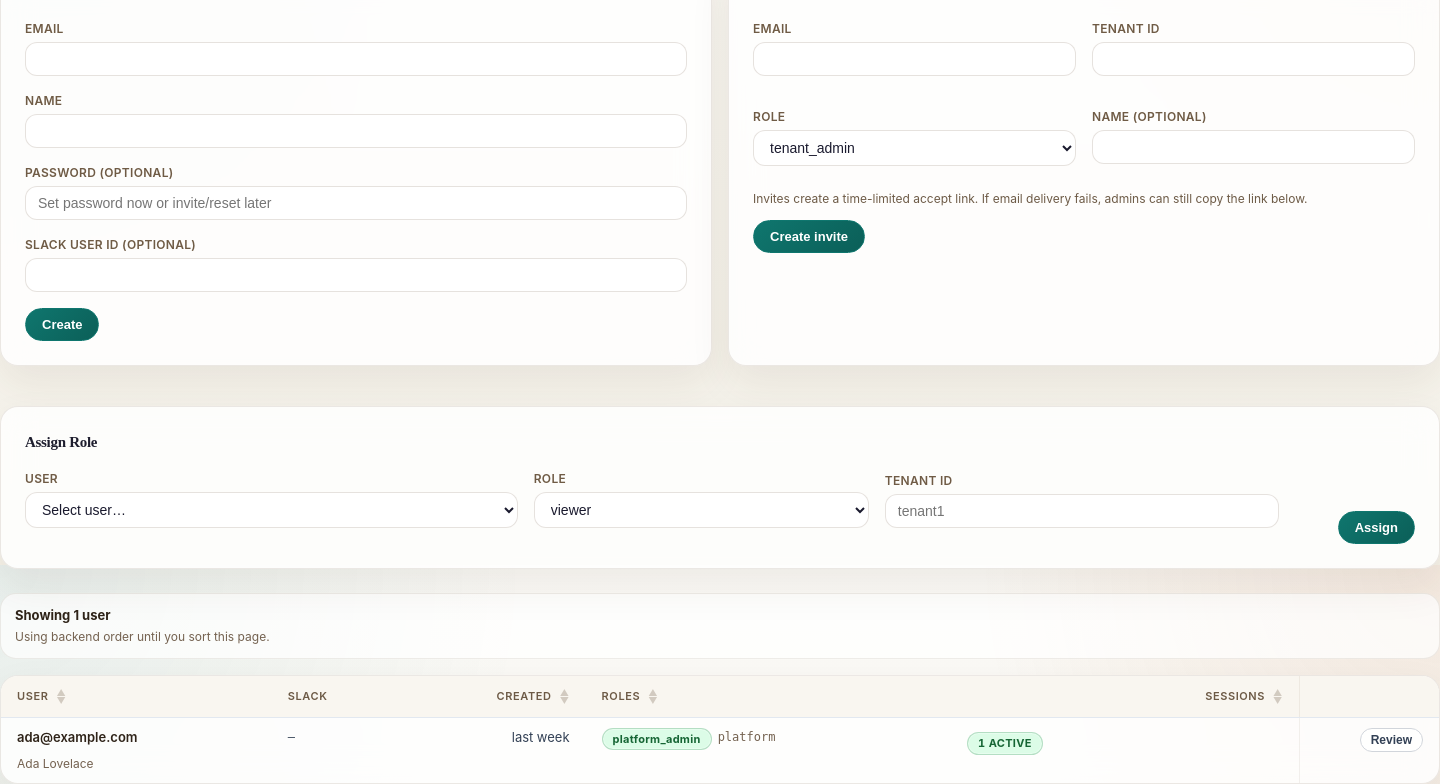
Users page › accepts array-form user and auth-session payloads at the API boundary
(page scrolled)
Expected: the text "Ada Lovelace" is shown, 17,756 -> 94,771
Click the button "Review" at (1391, 740), box 1360,728 -> 1423,752
(page scrolled)
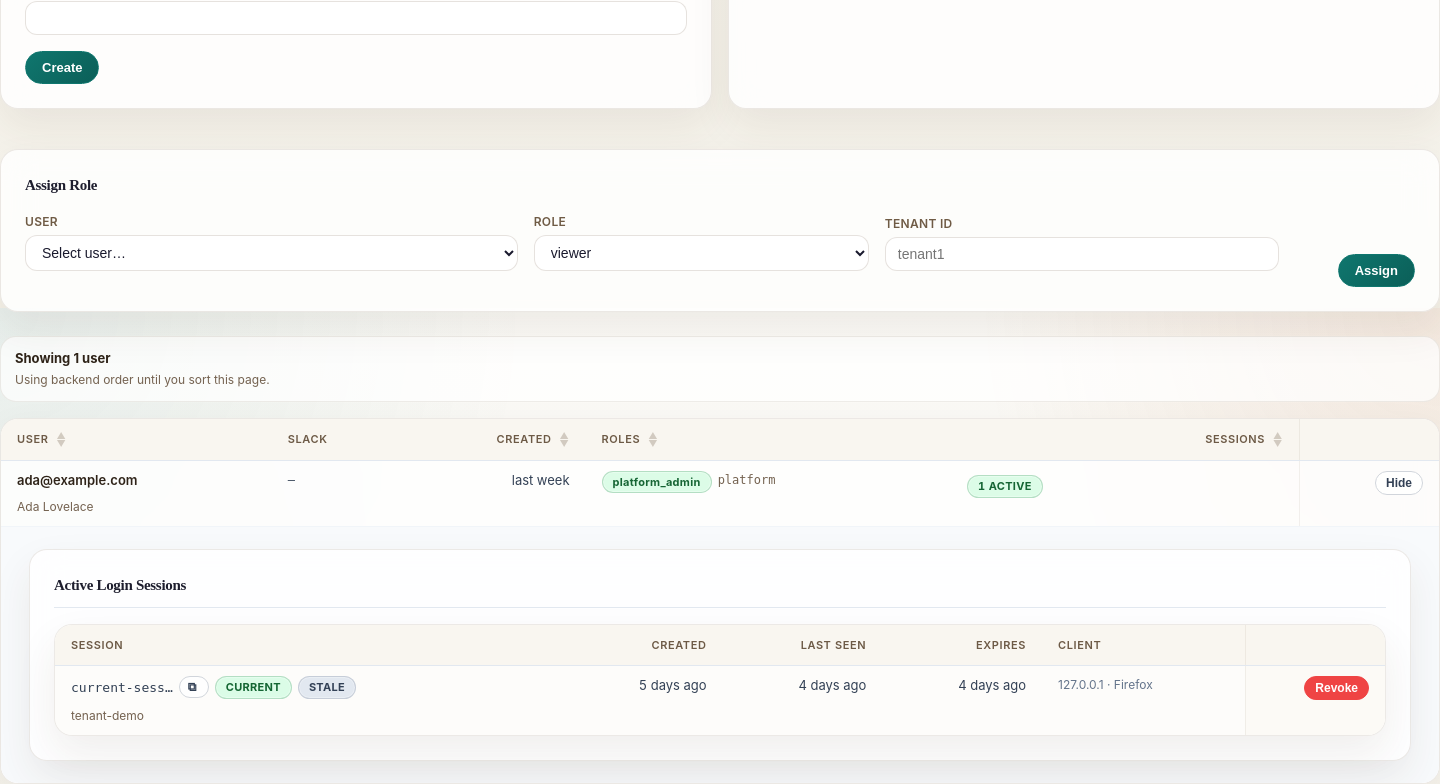
Now the heading "Active Login Sessions" is shown, box 54,574 -> 1386,608
Now the text "127.0.0.1 · Firefox" is shown, box 1042,666 -> 1245,734
